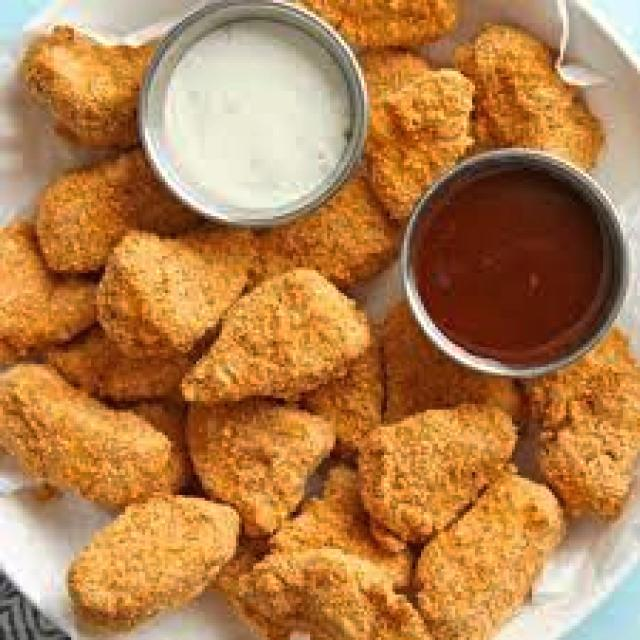chicken_nuggets: (182, 268, 372, 402), (416, 471, 566, 640), (0, 362, 171, 506), (67, 493, 239, 625), (358, 402, 519, 541), (461, 23, 604, 168), (532, 321, 634, 520), (188, 401, 336, 536), (93, 230, 254, 350), (236, 546, 427, 640), (365, 68, 472, 218), (28, 26, 148, 150), (36, 151, 153, 275)
ketchup: (414, 172, 621, 361)
